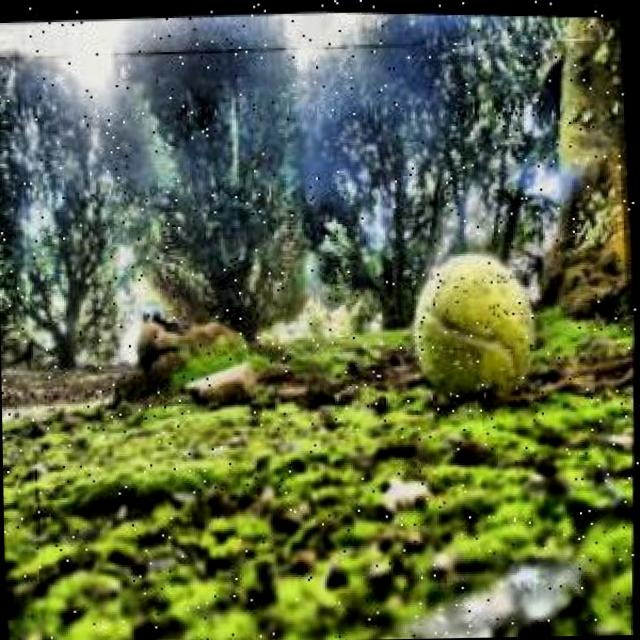tennis-ball: (406, 242, 540, 404)
